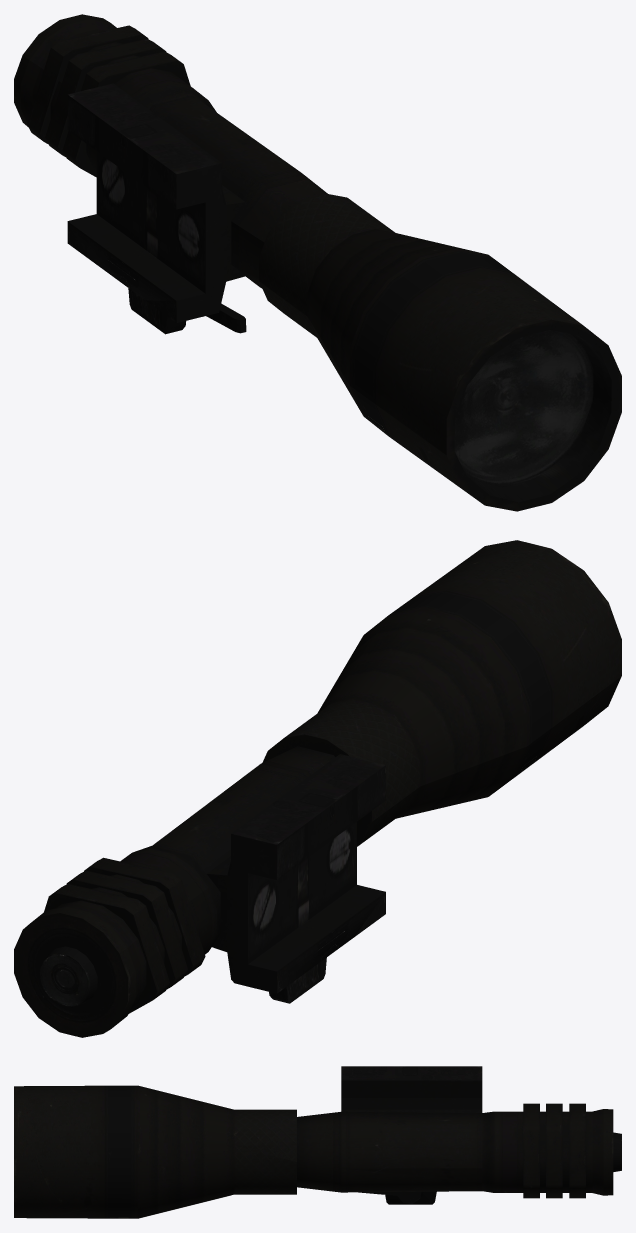
Rendered from FLASHLIGHT.FBX.
The picture shows the model from 3 angles, top to bottom: view 1: azimuth 30°, elevation 25°; view 2: azimuth 150°, elevation 25°; view 3: azimuth 270°, elevation 25°; orthographic projection. The views are drawn at different scales.
Visible parts, largest first — view 1: Mesh_0019; view 2: Mesh_0019; view 3: Mesh_0019.
Part boxes in pixels (<box>): Mesh_0019: <box>14,14,621,511</box>; Mesh_0019: <box>14,540,621,1037</box>; Mesh_0019: <box>14,1066,621,1218</box>.
Size of the model in its own units: 3.32 by 3.35 by 13.98.
